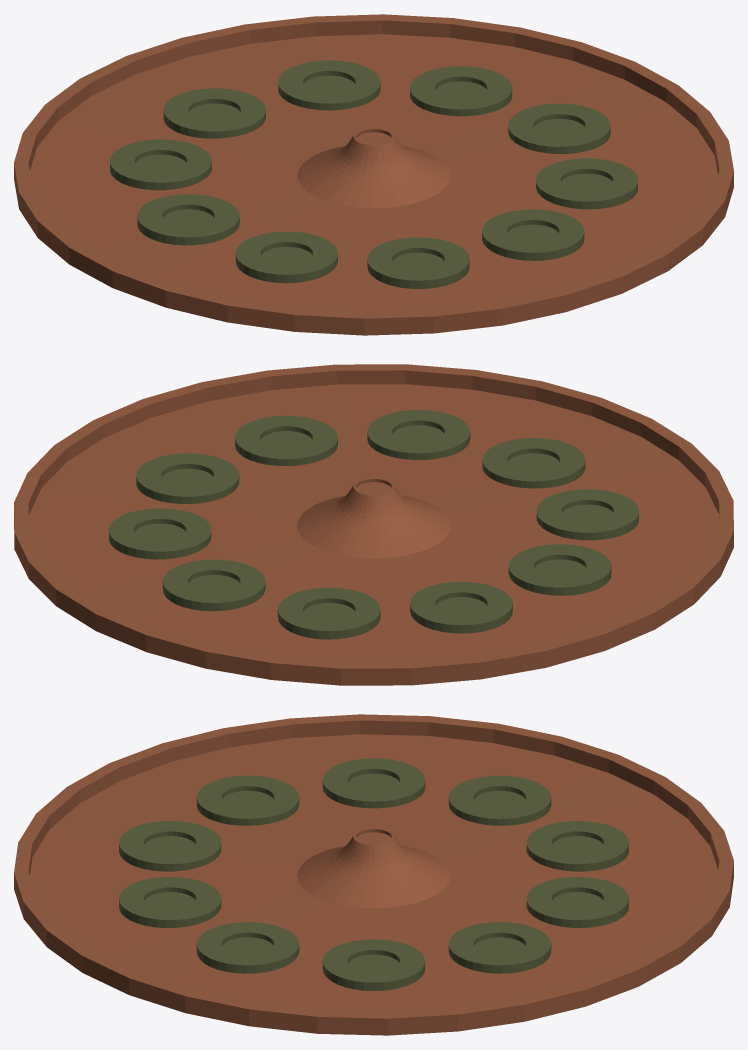
Rendered from Procedure1.fbx.
3 views of the same model, one above another, from view 1: azimuth 30°, elevation 25°; view 2: azimuth 150°, elevation 25°; view 3: azimuth 270°, elevation 25° (orthographic).
Visible parts, largest first — view 1: Cylinder, Cylinder.001; view 2: Cylinder, Cylinder.001; view 3: Cylinder, Cylinder.001.
Part boxes in pixels (left/top/right/bottom): Cylinder: left=14, top=14, right=733, bottom=335; Cylinder.001: left=110, top=60, right=637, bottom=288; Cylinder: left=14, top=364, right=733, bottom=685; Cylinder.001: left=109, top=410, right=638, bottom=639; Cylinder: left=14, top=714, right=733, bottom=1035; Cylinder.001: left=119, top=758, right=628, bottom=991.
Bounding box in the file's own units: 462 × 34.84 × 462.
